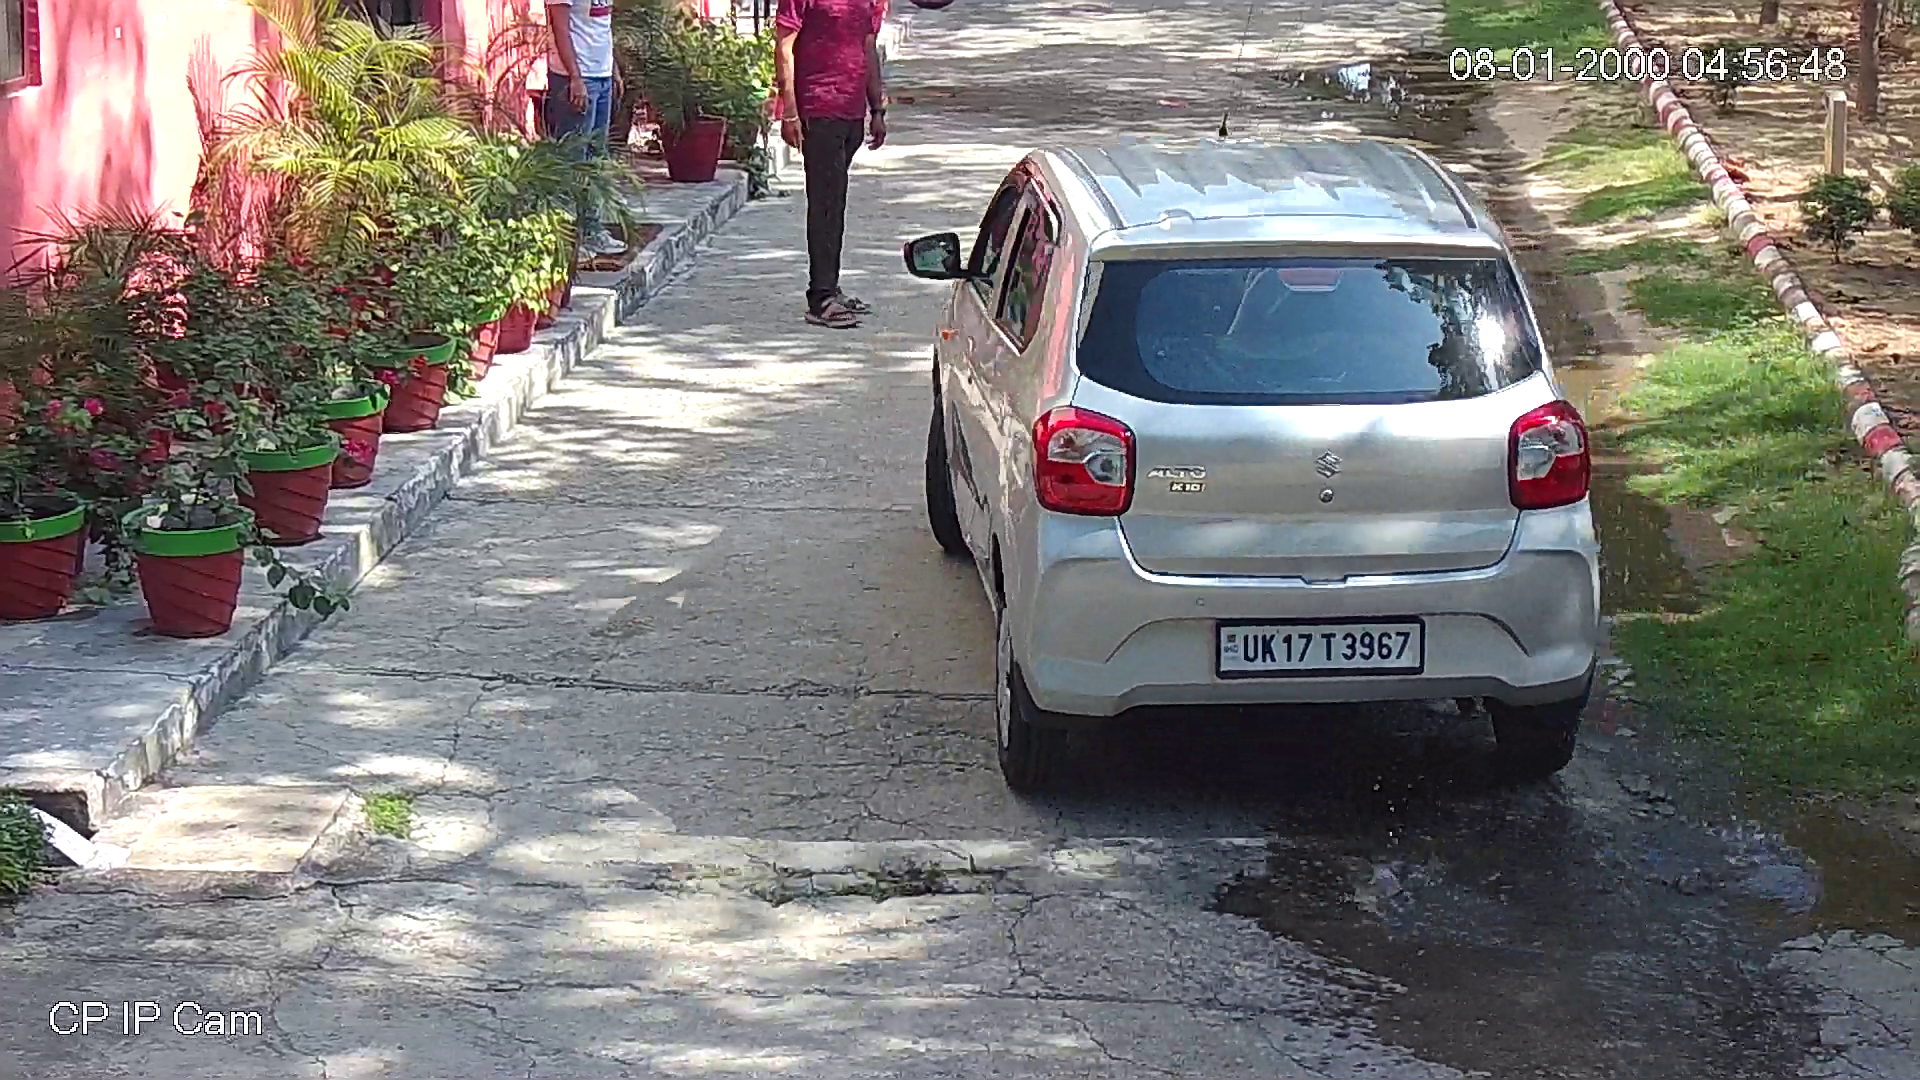plate: (1211, 606, 1434, 681)
